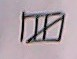kok: (8, 4, 71, 50)
